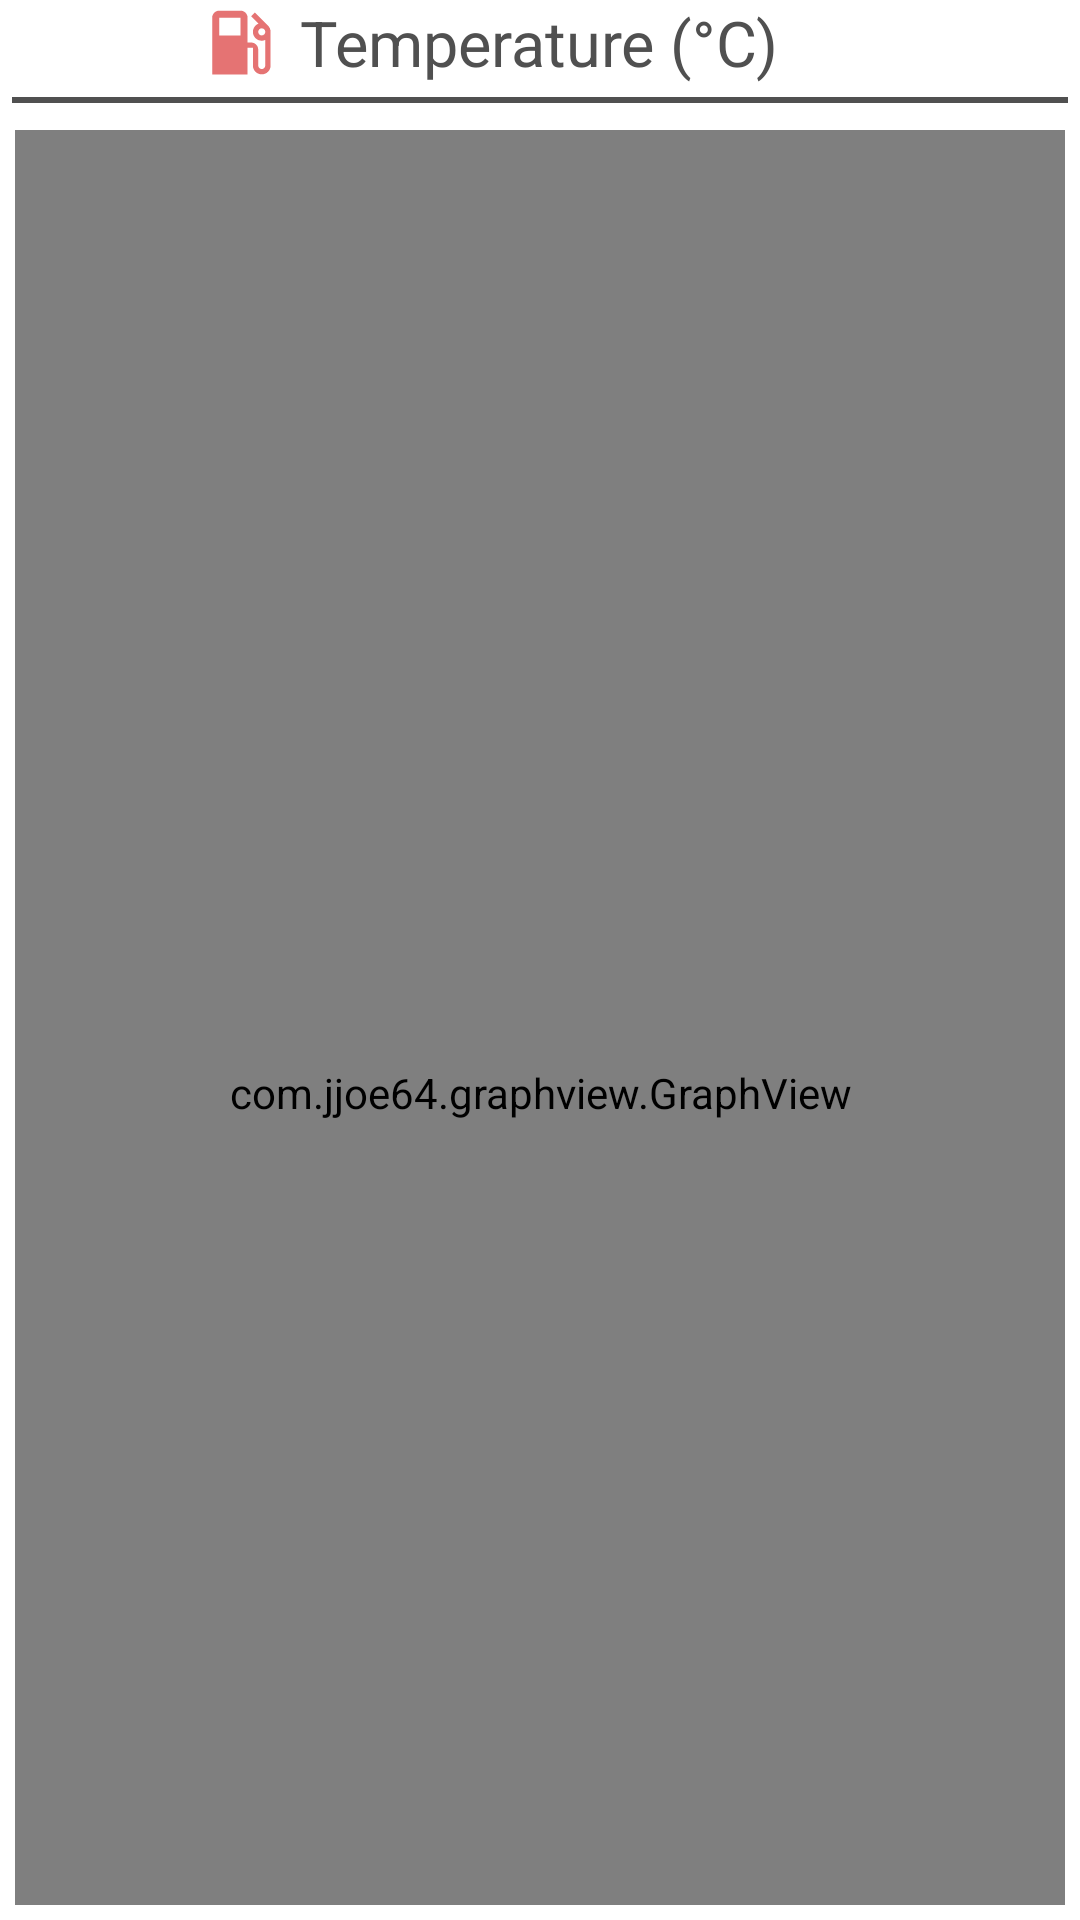

Screen size 1080*1920. Icon name, then its box in pixels as (x1, y1, x2, y2):
local gas station: (212, 10, 271, 75)
